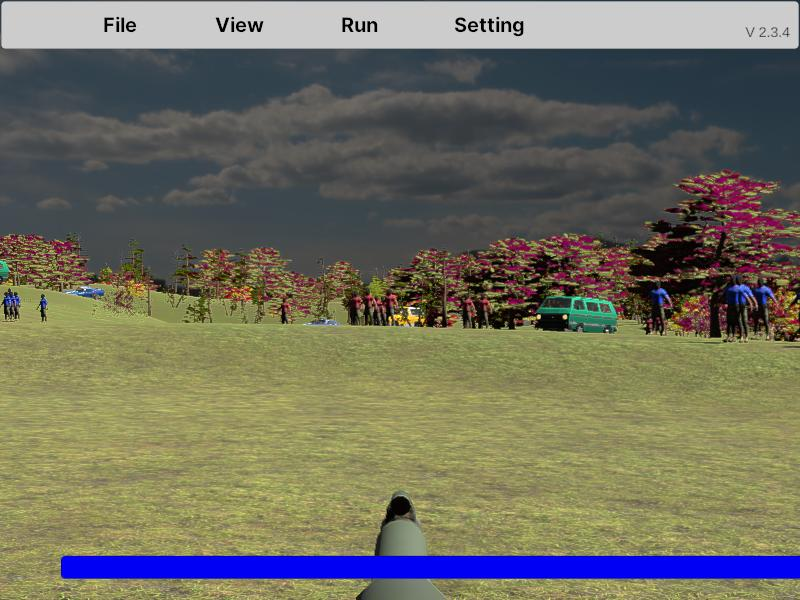Human: (718, 275, 755, 342), (752, 277, 778, 341), (646, 281, 673, 337)
car: (536, 296, 617, 337), (0, 258, 10, 285)
